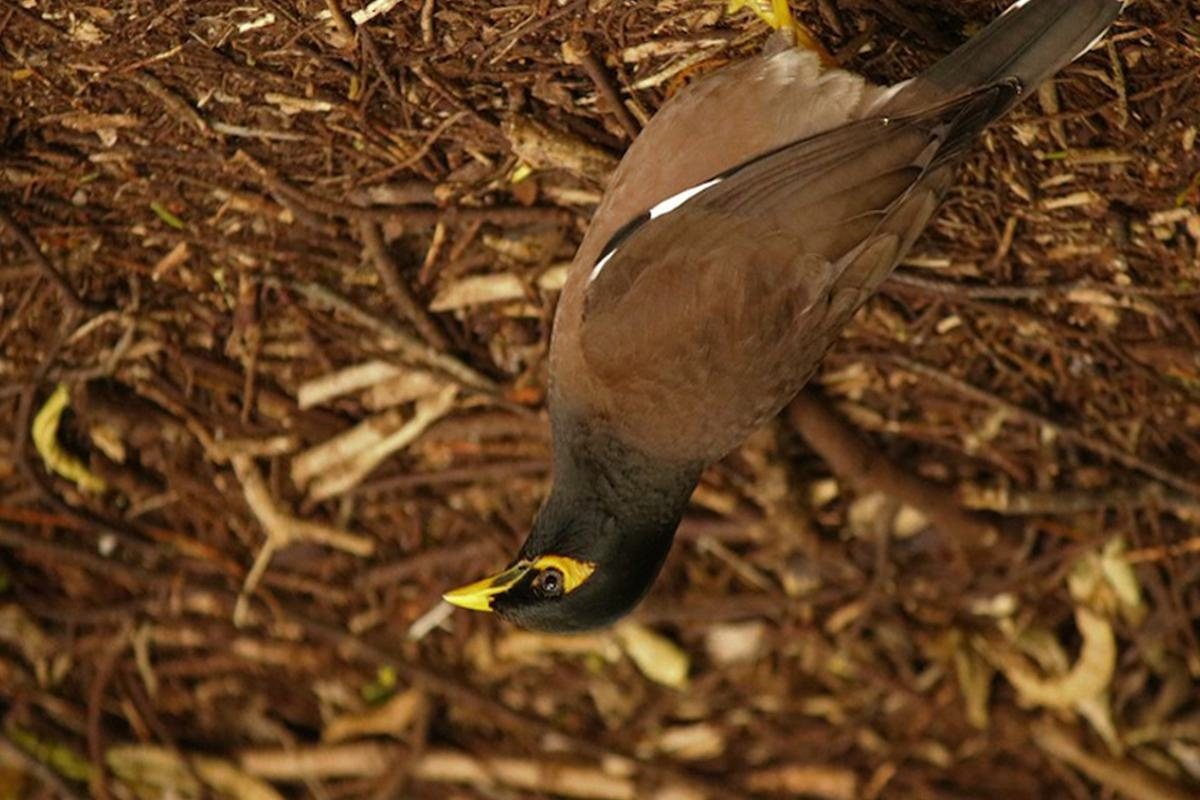myna: (435, 1, 1038, 660)
